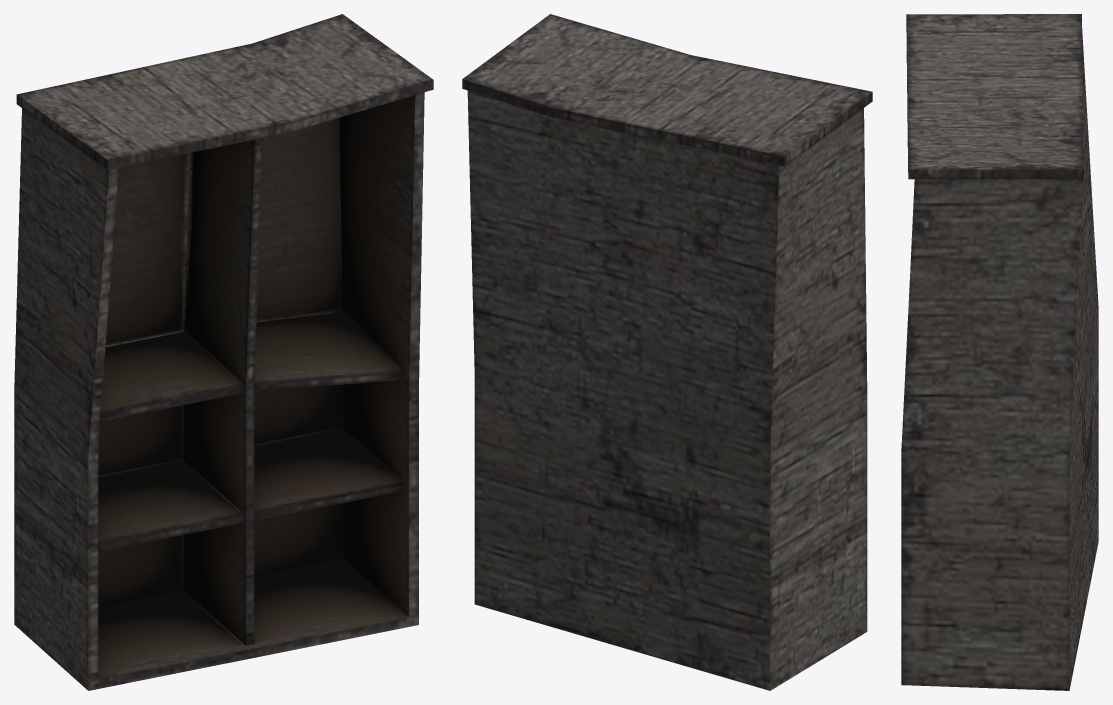
Rendered from OpenCab_01.FBX.
3 views of the same model, side by side, from view 1: azimuth 30°, elevation 25°; view 2: azimuth 150°, elevation 25°; view 3: azimuth 270°, elevation 25° (orthographic). The views are drawn at different scales.
Visible parts, largest first — view 1: OpenCab_01; view 2: OpenCab_01; view 3: OpenCab_01.
Part boxes in pixels (x1=…): OpenCab_01: x1=14, y1=14, x2=433, y2=690; OpenCab_01: x1=462, y1=14, x2=872, y2=690; OpenCab_01: x1=901, y1=14, x2=1098, y2=690.
Bounding box in the file's own units: 133 × 205 × 69.91.
